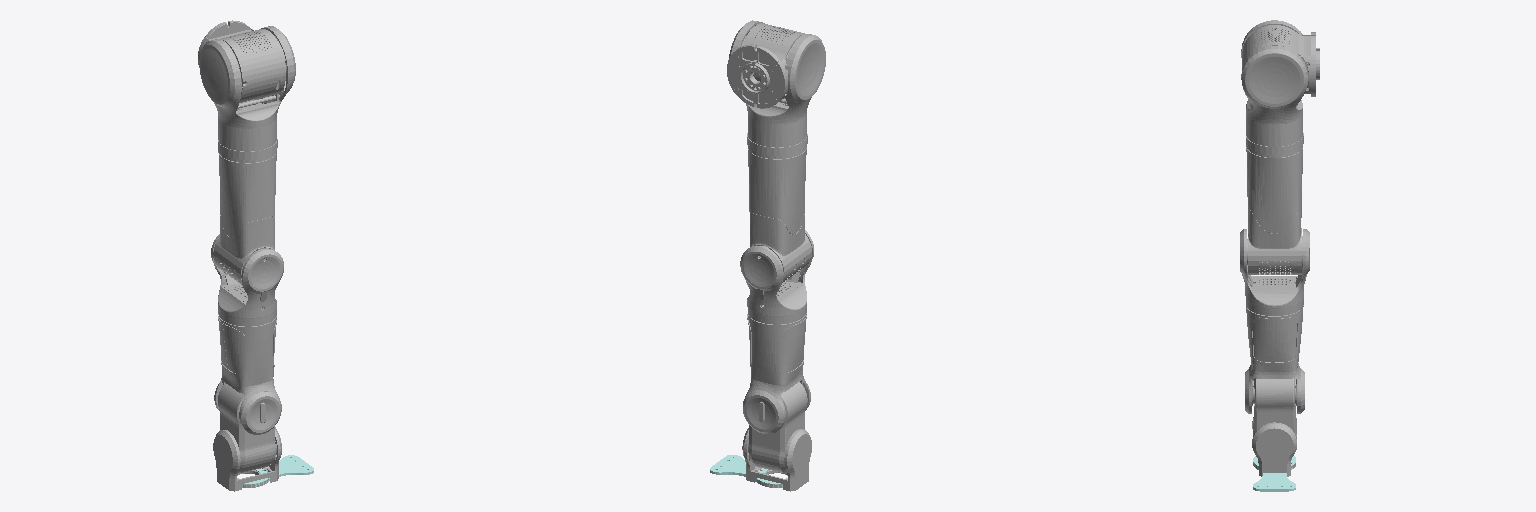
URDF robot description (lkls73_arm_right):
<?xml version="1.0" encoding="utf-8"?>
<!-- Source: vendor lkls73_i1_dual_arm_description package (A7V2_50_4.27).
     Mirror of variants/left: rerooted at R_arm_root so the recipe's fixed
     mount joint can live above R1_Joint. Kinematics match the source URDF;
     R1_Joint's original [3.32E-05 -0.164 0] offset is absorbed by the
     torso base's arm_right_mount placement. Joint axes and limits are
     the source's mirrored values (not recomputed from the left). -->
<robot name="lkls73_arm_right">

  <link name="R_arm_root" />

  <link name="R1_Link">
    <inertial>
      <origin xyz="-0.00238919607727967 -0.0538157456440336 0.00010452196048521" rpy="0 0 0" />
      <mass value="1.39972022686362" />
      <inertia
        ixx="0.00114445390268402" ixy="-2.33503672059843E-06" ixz="9.94413679130844E-09"
        iyy="0.000654874566780468" iyz="-1.0590763545097E-06"
        izz="0.000691494652521253" />
    </inertial>
    <visual>
      <origin xyz="0 0 0" rpy="0 0 0" />
      <geometry>
        <mesh filename="meshes/R1_Link.STL" />
      </geometry>
      <material name="">
        <color rgba="0.752941176470588 0.752941176470588 0.752941176470588 1" />
      </material>
    </visual>
    <collision>
      <origin xyz="0 0 0" rpy="0 0 0" />
      <geometry>
        <mesh filename="meshes/R1_Link.STL" />
      </geometry>
    </collision>
  </link>
  <joint name="R1_Joint" type="revolute">
    <origin xyz="0 0 0" rpy="0 0 0" />
    <parent link="R_arm_root" />
    <child link="R1_Link" />
    <axis xyz="0 1 0" />
    <limit lower="-2.91" upper="2.91" effort="80" velocity="10.47" />
  </joint>

  <link name="R2_Link">
    <inertial>
      <origin xyz="-0.00161840435618426 -8.19852199768212E-06 -0.0795740266968583" rpy="0 0 0" />
      <mass value="1.14210467744301" />
      <inertia
        ixx="0.00099926032712546" ixy="4.38390428673455E-06" ixz="1.34112399215467E-06"
        iyy="0.000929597930299551" iyz="-2.7915125849712E-07"
        izz="0.000490873969400915" />
    </inertial>
    <visual>
      <origin xyz="0 0 0" rpy="0 0 0" />
      <geometry>
        <mesh filename="meshes/R2_Link.STL" />
      </geometry>
      <material name="">
        <color rgba="0.752941176470588 0.752941176470588 0.752941176470588 1" />
      </material>
    </visual>
    <collision>
      <origin xyz="0 0 0" rpy="0 0 0" />
      <geometry>
        <mesh filename="meshes/R2_Link.STL" />
      </geometry>
    </collision>
  </link>
  <joint name="R2_Joint" type="revolute">
    <origin xyz="-3.32E-05 -0.058001 0" rpy="0 0 0" />
    <parent link="R1_Link" />
    <child link="R2_Link" />
    <axis xyz="-1 0 0" />
    <limit lower="-0.07" upper="3.2" effort="80" velocity="10.47" />
  </joint>

  <link name="R3_Link">
    <inertial>
      <origin xyz="-0.000181281046893987 -0.00124930020984915 -0.128548942421424" rpy="0 0 0" />
      <mass value="1.27984352653686" />
      <inertia
        ixx="0.00158095142360156" ixy="7.74064683830126E-07" ixz="8.68119825601561E-07"
        iyy="0.00163152744277086" iyz="2.41539423740222E-06"
        izz="0.000344148863355523" />
    </inertial>
    <visual>
      <origin xyz="0 0 0" rpy="0 0 0" />
      <geometry>
        <mesh filename="meshes/R3_Link.STL" />
      </geometry>
      <material name="">
        <color rgba="0.752941176470588 0.752941176470588 0.752941176470588 1" />
      </material>
    </visual>
    <collision>
      <origin xyz="0 0 0" rpy="0 0 0" />
      <geometry>
        <mesh filename="meshes/R3_Link.STL" />
      </geometry>
    </collision>
  </link>
  <joint name="R3_Joint" type="revolute">
    <origin xyz="2.5018E-05 0 -0.123" rpy="0 0 0" />
    <parent link="R2_Link" />
    <child link="R3_Link" />
    <axis xyz="0 0 1" />
    <limit lower="-2.69" upper="2.69" effort="36" velocity="9.1" />
  </joint>

  <link name="R4_Link">
    <inertial>
      <origin xyz="4.42383386005531E-06 -0.000778418113624724 -0.0846001182728231" rpy="0 0 0" />
      <mass value="0.935504488206621" />
      <inertia
        ixx="0.00050824600575807" ixy="-4.12349458829714E-06" ixz="1.60122816329668E-07"
        iyy="0.000524130564978714" iyz="3.4575721962879E-07"
        izz="0.000333983373234424" />
    </inertial>
    <visual>
      <origin xyz="0 0 0" rpy="0 0 0" />
      <geometry>
        <mesh filename="meshes/R4_Link.STL" />
      </geometry>
      <material name="">
        <color rgba="0.752941176470588 0.752941176470588 0.752941176470588 1" />
      </material>
    </visual>
    <collision>
      <origin xyz="0 0 0" rpy="0 0 0" />
      <geometry>
        <mesh filename="meshes/R4_Link.STL" />
      </geometry>
    </collision>
  </link>
  <joint name="R4_Joint" type="revolute">
    <origin xyz="-2.5308E-05 0 -0.1621" rpy="0 0 0" />
    <parent link="R3_Link" />
    <child link="R4_Link" />
    <axis xyz="0 1 0" />
    <limit lower="-2.05" upper="2.05" effort="36" velocity="9.1" />
  </joint>

  <link name="R5_Link">
    <inertial>
      <origin xyz="7.89161129038714E-05 -0.00127720103461224 -0.0361226257678754" rpy="0 0 0" />
      <mass value="0.298013716041534" />
      <inertia
        ixx="0.000356325710016729" ixy="8.49345579615723E-07" ixz="1.06208408022809E-06"
        iyy="0.000385006832605378" iyz="-2.16308499009301E-06"
        izz="0.000101746689163179" />
    </inertial>
    <visual>
      <origin xyz="0 0 0" rpy="0 0 0" />
      <geometry>
        <mesh filename="meshes/R5_Link.STL" />
      </geometry>
      <material name="">
        <color rgba="0.752941176470588 0.752941176470588 0.752941176470588 1" />
      </material>
    </visual>
    <collision>
      <origin xyz="0 0 0" rpy="0 0 0" />
      <geometry>
        <mesh filename="meshes/R5_Link.STL" />
      </geometry>
    </collision>
  </link>
  <joint name="R5_Joint" type="revolute">
    <origin xyz="0 0 -0.124" rpy="0 0 0" />
    <parent link="R4_Link" />
    <child link="R5_Link" />
    <axis xyz="0 0 1" />
    <limit lower="-2.69" upper="2.69" effort="36" velocity="9.1" />
  </joint>

  <link name="R6_Link">
    <inertial>
      <origin xyz="-0.00423362800835291 0.00438647668797748 -0.0324823687491156" rpy="0 0 0" />
      <mass value="0.344326135276304" />
      <inertia
        ixx="0.000194396918256628" ixy="1.34060453386023E-06" ixz="-9.47065531650411E-06"
        iyy="0.000233882313857475" iyz="-2.86903332334497E-07"
        izz="0.00010145861997438" />
    </inertial>
    <visual>
      <origin xyz="0 0 0" rpy="0 0 0" />
      <geometry>
        <mesh filename="meshes/R6_Link.STL" />
      </geometry>
      <material name="">
        <color rgba="0.752941176470588 0.752941176470588 0.752941176470588 1" />
      </material>
    </visual>
    <collision>
      <origin xyz="0 0 0" rpy="0 0 0" />
      <geometry>
        <mesh filename="meshes/R6_Link.STL" />
      </geometry>
    </collision>
  </link>
  <joint name="R6_Joint" type="revolute">
    <origin xyz="0 0 -0.0881" rpy="0 0 0" />
    <parent link="R5_Link" />
    <child link="R6_Link" />
    <axis xyz="0 1 0" />
    <limit lower="-1.59" upper="1.59" effort="18" velocity="7.33" />
  </joint>

  <link name="R7_Link">
    <inertial>
      <origin xyz="0.00330667550394679 -1.18809317478652E-06 -0.0202430179967651" rpy="0 0 0" />
      <mass value="0.143310943627727" />
      <inertia
        ixx="6.98168229201036E-05" ixy="2.70503363330993E-07" ixz="3.17975733407385E-08"
        iyy="5.48675476764227E-05" iyz="-1.01361997649667E-12"
        izz="4.4020607930099E-05" />
    </inertial>
    <visual>
      <origin xyz="0 0 0" rpy="0 0 0" />
      <geometry>
        <mesh filename="meshes/R7_Link.STL" />
      </geometry>
      <material name="">
        <color rgba="0.752941176470588 0.752941176470588 0.752941176470588 1" />
      </material>
    </visual>
    <collision>
      <origin xyz="0 0 0" rpy="0 0 0" />
      <geometry>
        <mesh filename="meshes/R7_Link.STL" />
      </geometry>
    </collision>
  </link>
  <joint name="R7_Joint" type="revolute">
    <origin xyz="2.5631E-05 0 -0.0655" rpy="0 0 0" />
    <parent link="R6_Link" />
    <child link="R7_Link" />
    <axis xyz="-1 0 0" />
    <limit lower="-1.59" upper="1.59" effort="18" velocity="7.33" />
  </joint>

  <link name="R8_Link">
    <inertial>
      <origin xyz="-1.03808180585258E-10 5.33808552916071E-11 0.000499999999999834" rpy="0 0 0" />
      <mass value="6.05149284897743E-05" />
      <inertia
        ixx="8.49604381443613E-09" ixy="8.31967629121856E-22" ixz="7.81277954468574E-15"
        iyy="8.49604381442903E-09" iyz="9.03653481925555E-16"
        izz="1.69820018074356E-08" />
    </inertial>
    <visual>
      <origin xyz="0 0 0" rpy="0 0 0" />
      <geometry>
        <mesh filename="meshes/R8_Link.STL" />
      </geometry>
      <material name="">
        <color rgba="0.780392156862745 0.972549019607843 0.956862745098039 1" />
      </material>
    </visual>
    <collision>
      <origin xyz="0 0 0" rpy="0 0 0" />
      <geometry>
        <mesh filename="meshes/R8_Link.STL" />
      </geometry>
    </collision>
  </link>
  <joint name="R8_Joint" type="fixed">
    <origin xyz="-2.5732E-05 0 -0.0455" rpy="0 0 0" />
    <parent link="R7_Link" />
    <child link="R8_Link" />
    <axis xyz="0 0 0" />
  </joint>

</robot>

--- Facts derived from the render (not from the file) ---
3 views of the same robot in one strip: view 1: azimuth 30°, elevation 25°; view 2: azimuth 150°, elevation 25°; view 3: azimuth 270°, elevation 25° (orthographic).
Robot: lkls73_arm_right — 9 links, 8 joints (7 revolute, 1 fixed); root link R_arm_root; default pose: all joints at 0.
Links seen in each view (by area): view 1: R2_Link, R3_Link, R5_Link, R4_Link, R1_Link, R6_Link, R7_Link, R8_Link; view 2: R3_Link, R2_Link, R5_Link, R1_Link, R4_Link, R6_Link, R7_Link, R8_Link; view 3: R2_Link, R3_Link, R5_Link, R4_Link, R1_Link, R6_Link, R7_Link, R8_Link.
Boxes of the visible links, x1=… form: R2_Link: x1=199, y1=26, x2=295, y2=162; R3_Link: x1=213, y1=152, x2=276, y2=285; R5_Link: x1=214, y1=314, x2=281, y2=434; R4_Link: x1=211, y1=234, x2=283, y2=326; R1_Link: x1=198, y1=20, x2=285, y2=102; R6_Link: x1=218, y1=383, x2=275, y2=473; R7_Link: x1=213, y1=427, x2=281, y2=491; R8_Link: x1=237, y1=455, x2=313, y2=487; R3_Link: x1=748, y1=148, x2=811, y2=282; R2_Link: x1=729, y1=20, x2=825, y2=158; R5_Link: x1=743, y1=313, x2=810, y2=433; R1_Link: x1=727, y1=23, x2=804, y2=108; R4_Link: x1=740, y1=230, x2=813, y2=324; R6_Link: x1=748, y1=382, x2=807, y2=473; R7_Link: x1=742, y1=428, x2=811, y2=491; R8_Link: x1=710, y1=455, x2=787, y2=487; R2_Link: x1=1241, y1=20, x2=1307, y2=157; R3_Link: x1=1246, y1=147, x2=1302, y2=274; R5_Link: x1=1245, y1=305, x2=1304, y2=413; R4_Link: x1=1240, y1=229, x2=1309, y2=315; R1_Link: x1=1242, y1=25, x2=1319, y2=96; R6_Link: x1=1253, y1=378, x2=1296, y2=436; R7_Link: x1=1252, y1=417, x2=1296, y2=476; R8_Link: x1=1253, y1=456, x2=1295, y2=491.
Bounding box of the posed robot: 0.141 × 0.1105 × 0.6561 m (x, y, z).
Meshes: 8 distinct files referenced, 8 mesh visuals loaded (8 binary STL).
